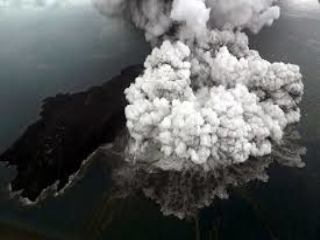smoke: (105, 4, 301, 185)
